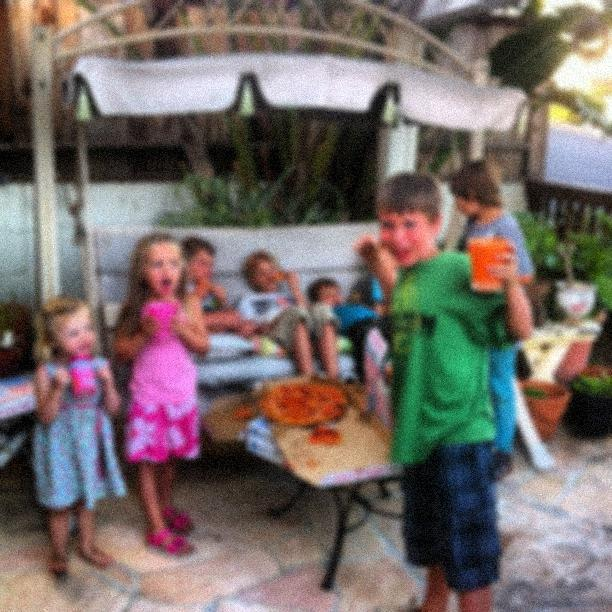Matera: (161, 126, 366, 436), (539, 215, 610, 358), (546, 228, 601, 328), (508, 209, 555, 312), (508, 375, 572, 449), (574, 368, 610, 443)
